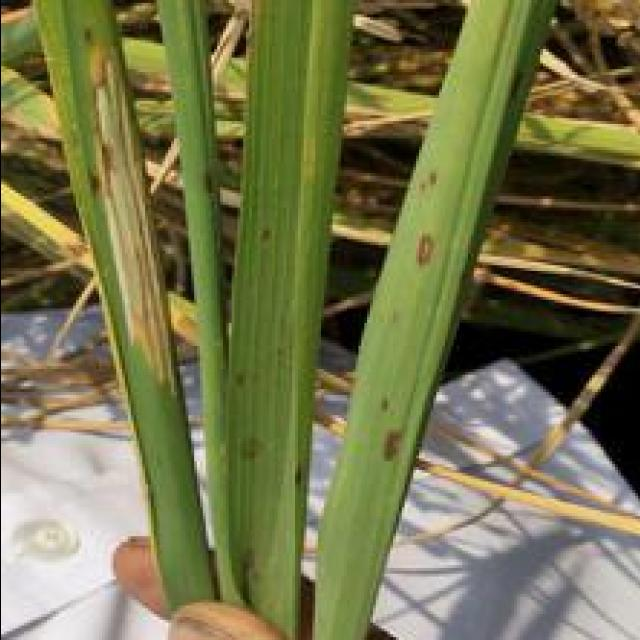Brown_Spot: (406, 222, 436, 288), (372, 418, 401, 476), (410, 158, 436, 196), (193, 164, 216, 204), (230, 435, 260, 464), (69, 14, 92, 46), (248, 219, 268, 245)
